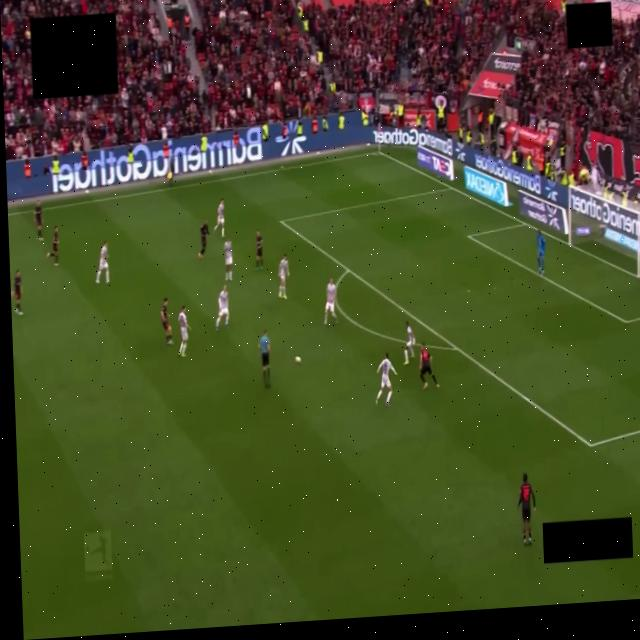ball: (295, 357, 300, 364)
player: (518, 473, 534, 545), (376, 353, 396, 406), (419, 343, 438, 389), (324, 279, 337, 325), (95, 242, 109, 284), (215, 286, 228, 330), (160, 298, 172, 345), (178, 306, 189, 357), (403, 322, 415, 365), (278, 254, 289, 300), (46, 226, 58, 266), (13, 271, 22, 316), (536, 231, 545, 276), (214, 200, 224, 237), (198, 221, 208, 258), (224, 239, 232, 281), (34, 200, 42, 241), (255, 231, 262, 270)
referee: (258, 330, 269, 386)
